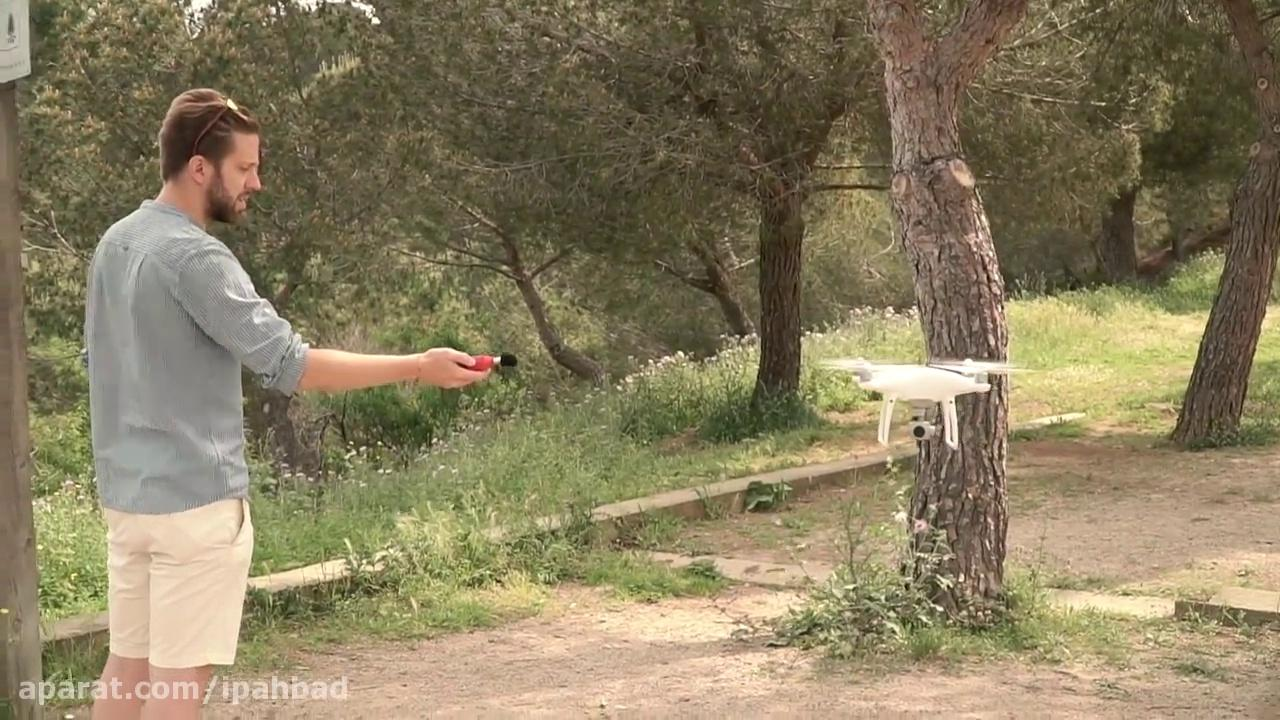drone: (817, 356, 1034, 451)
